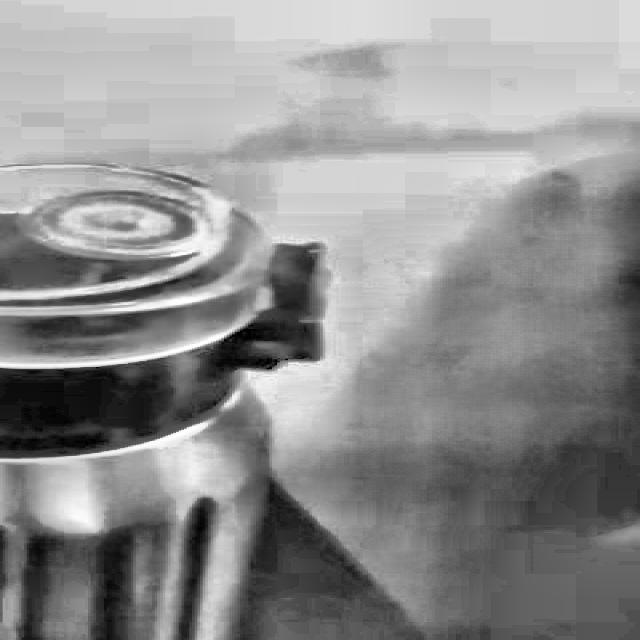bottle: (0, 163, 317, 640)
